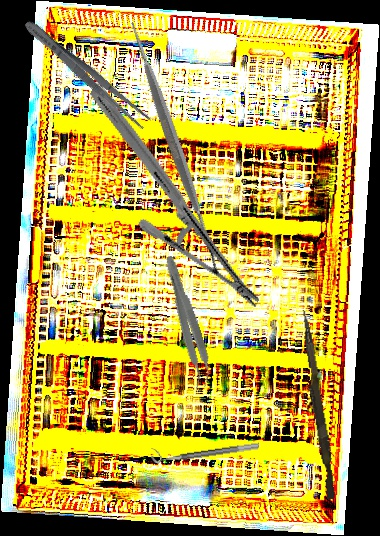Dressing Forceps: (20, 15, 153, 132)
Fixation Ring: (149, 433, 260, 465)
Needle Holder: (37, 82, 313, 310)
Pusher: (294, 309, 341, 500)
Spatula Surgical: (45, 11, 299, 262)
Tissue Forceps: (156, 254, 217, 390)
